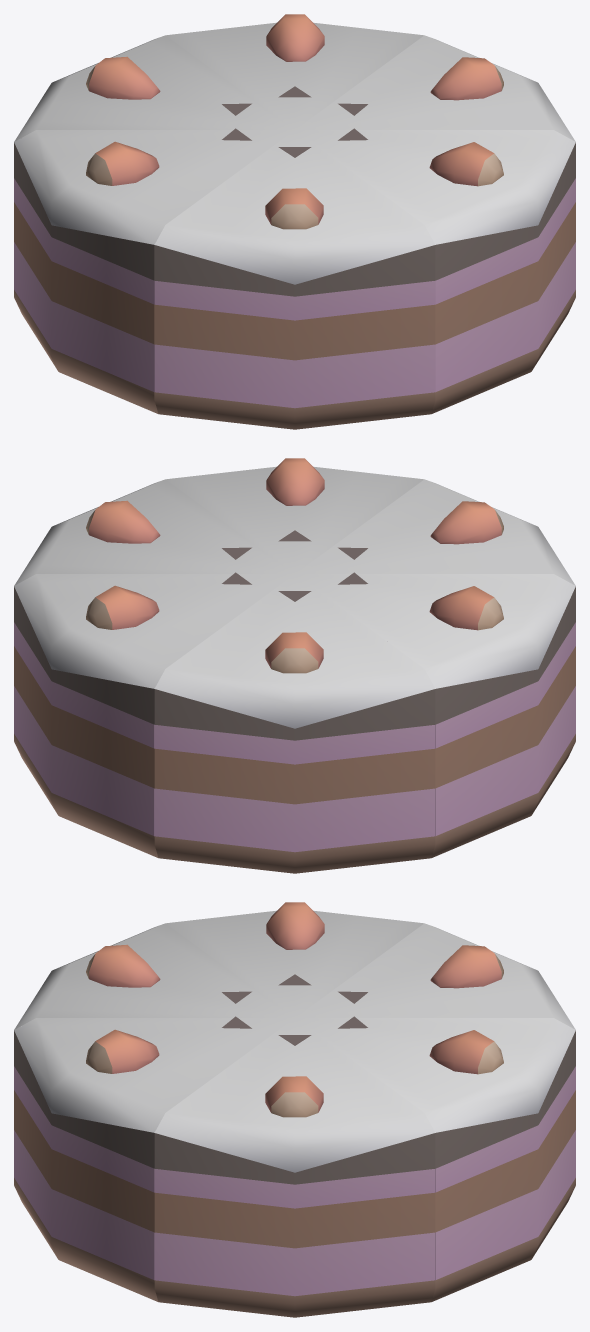
The model's file is cake.glb.
3 views of the same model, one above another, from view 1: azimuth 30°, elevation 25°; view 2: azimuth 150°, elevation 25°; view 3: azimuth 270°, elevation 25° (orthographic).
Parts seen in each view (by area): view 1: cake; view 2: cake; view 3: cake.
Part boxes in pixels (x1=…): cake: x1=14, y1=14, x2=575, y2=429; cake: x1=14, y1=458, x2=575, y2=873; cake: x1=14, y1=902, x2=575, y2=1317.
Size of the model in its own units: 0.6392 by 0.2731 by 0.6392.
